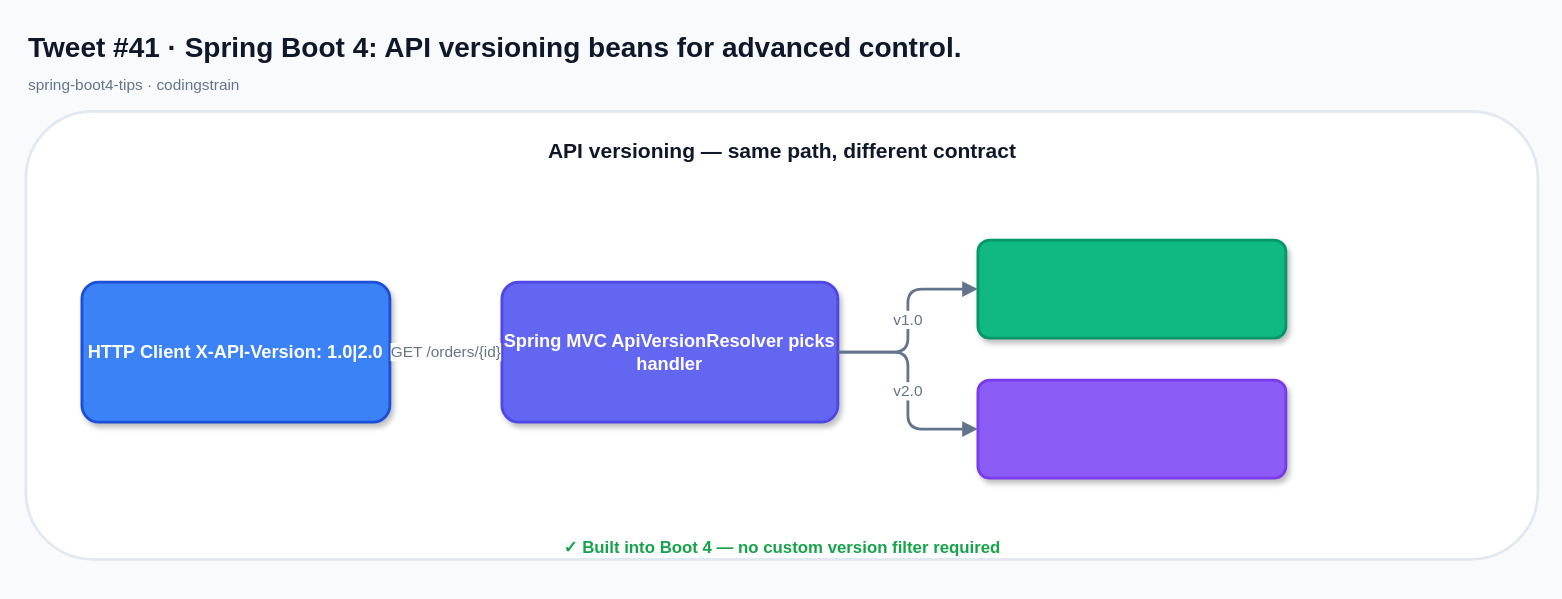
Image size: 1562x599. Some labels were removed from this diagram. Each missing label, with the centre of its shape:
@GetMapping(version="1.0") → OrderV1: pixel 1132 290
@GetMapping(version="2.0") → OrderV2: pixel 1132 430
